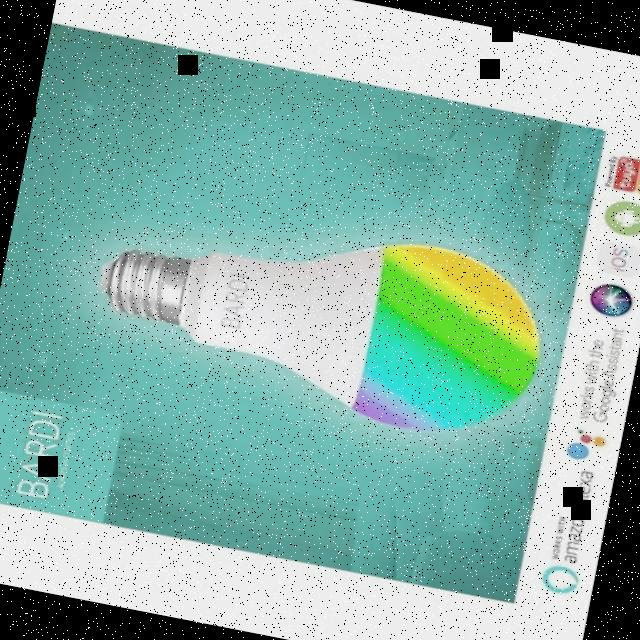light_bulb: (76, 182, 560, 457)
